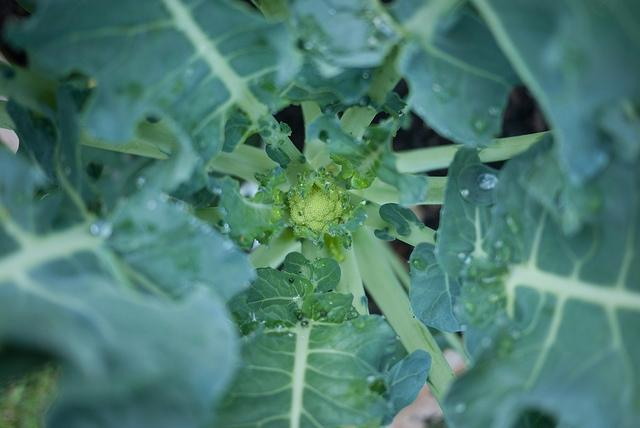broccoli: (286, 174, 348, 233)
